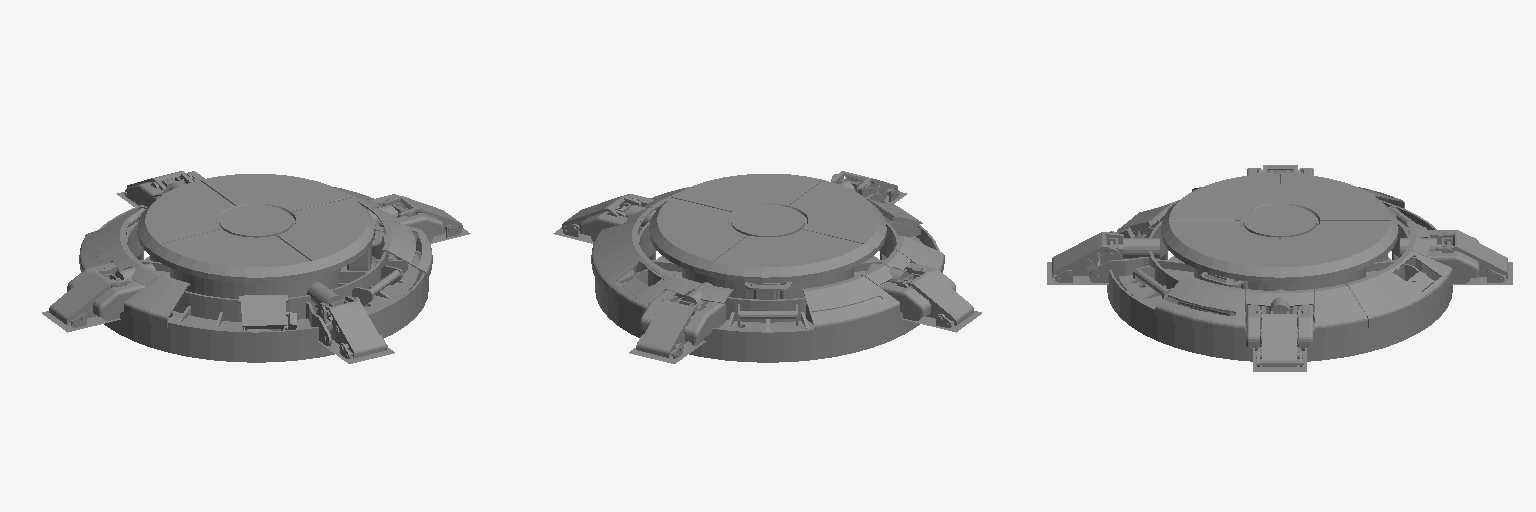
File: portalbutton.obj
3 renders of one model, left to right at view 1: azimuth 30°, elevation 25°; view 2: azimuth 150°, elevation 25°; view 3: azimuth 270°, elevation 25°, orthographic.
Visible parts, largest first — view 1: portalbutton; view 2: portalbutton; view 3: portalbutton.
Part boxes in pixels (left/top/right/bottom): portalbutton: left=42, top=171, right=470, bottom=363; portalbutton: left=553, top=171, right=981, bottom=363; portalbutton: left=1047, top=165, right=1512, bottom=371.
Size of the model in its own units: 1.21 by 0.2027 by 1.21.